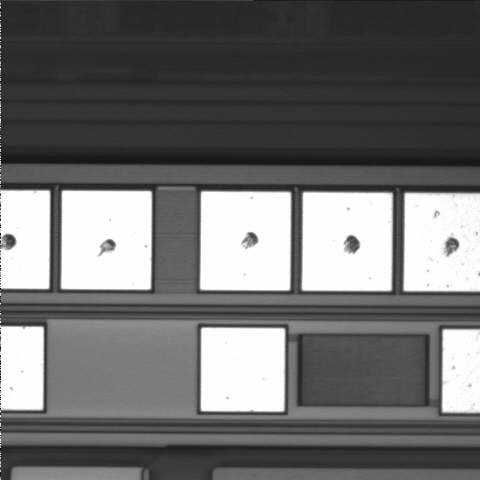pad: (61, 191, 152, 290), (200, 192, 291, 290), (302, 192, 392, 291), (201, 328, 285, 411)
